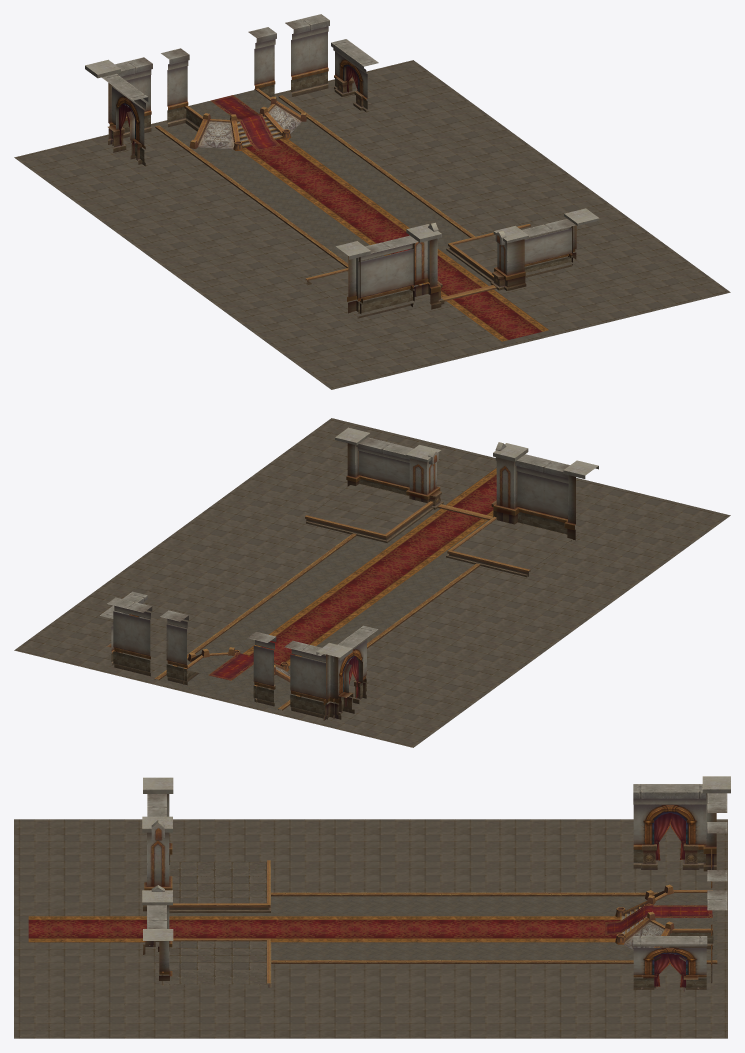
The model's file is terrain_section03_guanka06.FBX.
3 renders of one model, top to bottom at view 1: azimuth 30°, elevation 25°; view 2: azimuth 150°, elevation 25°; view 3: azimuth 270°, elevation 25°, orthographic. The views are drawn at different scales.
Parts seen in each view (by area): view 1: terrain_section03_guanka06; view 2: terrain_section03_guanka06; view 3: terrain_section03_guanka06.
Boxes of the visible parts, <box> form: terrain_section03_guanka06: <box>14,14,730,389</box>; terrain_section03_guanka06: <box>14,418,730,747</box>; terrain_section03_guanka06: <box>14,776,730,1038</box>.
Bounding box in the file's own units: 53.99 × 74.65 × 10.6.
